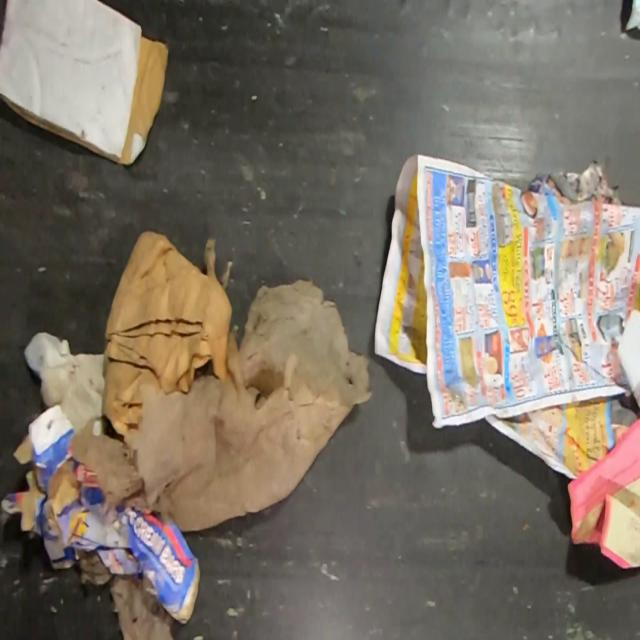cardboard: (1, 403, 200, 625), (0, 0, 171, 167), (102, 230, 239, 436)
